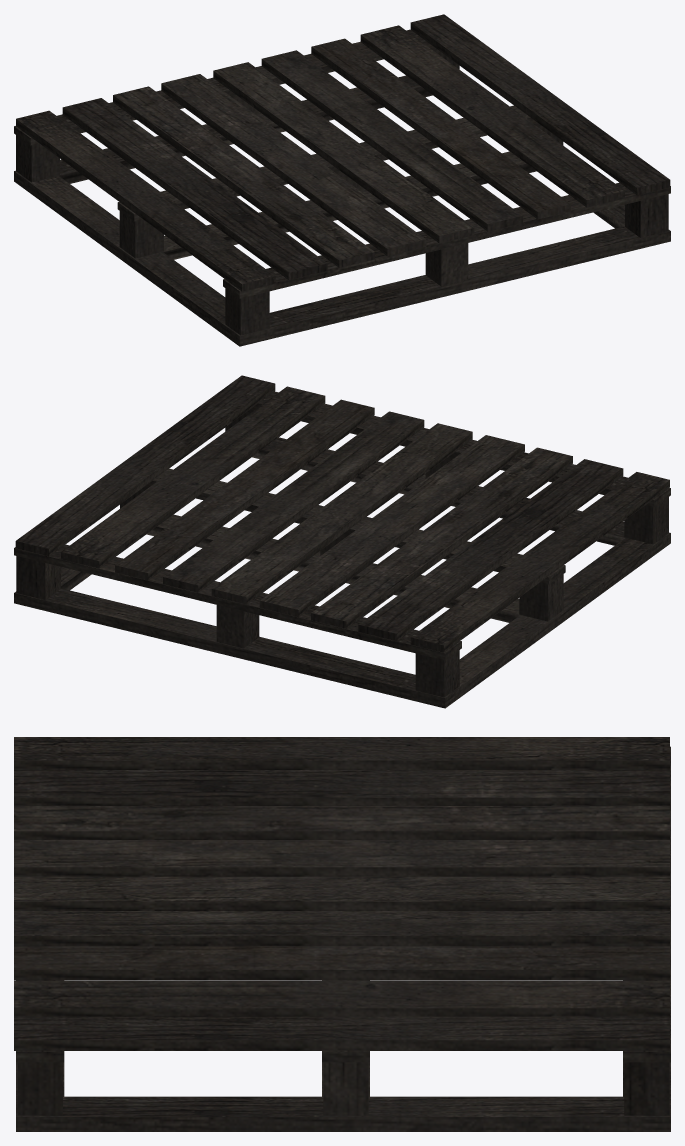
Rendered from wood_pallet_1.obj.
3 renders of one model, top to bottom at view 1: azimuth 30°, elevation 25°; view 2: azimuth 150°, elevation 25°; view 3: azimuth 270°, elevation 25°, orthographic. The views are drawn at different scales.
Visible parts, largest first — view 1: wood_pallet_1; view 2: wood_pallet_1; view 3: wood_pallet_1.
Part boxes in pixels (left/top/right/bottom): wood_pallet_1: left=14, top=14, right=670, bottom=346; wood_pallet_1: left=14, top=375, right=670, bottom=708; wood_pallet_1: left=14, top=737, right=670, bottom=1131.
Bounding box in the file's own units: 1.44 × 0.1995 × 1.31.
